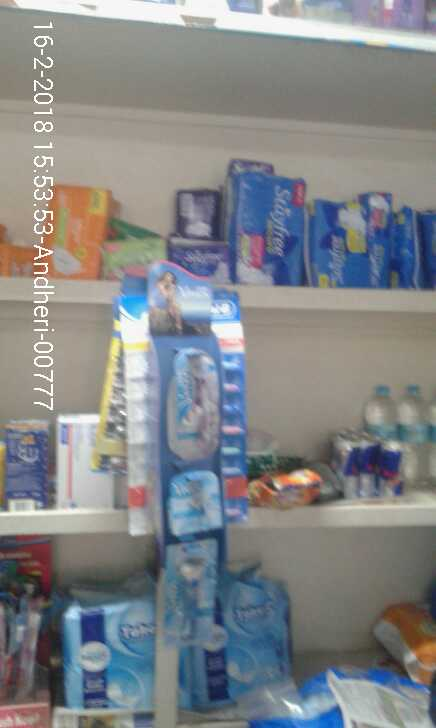beauty: (164, 345, 228, 466), (167, 472, 232, 539), (170, 544, 215, 640)
